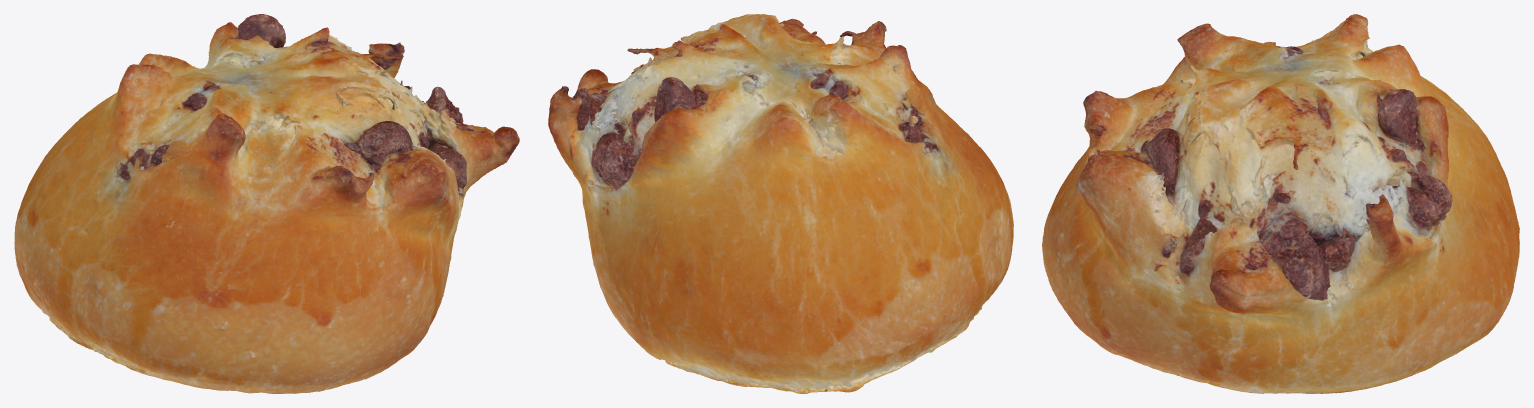
File: chocolate_chip_brioche (1).glb
The picture shows the model from 3 angles, left to right: view 1: azimuth 30°, elevation 25°; view 2: azimuth 150°, elevation 25°; view 3: azimuth 270°, elevation 25°; orthographic projection. The views are drawn at different scales.
Parts seen in each view (by area): view 1: Object_5, Object_4, Object_6, Object_7, Object_8, Object_2, Object_3; view 2: Object_6, Object_5, Object_2, Object_3, Object_4, Object_8, Object_7; view 3: Object_2, Object_4, Object_3, Object_5, Object_7, Object_8, Object_6.
Boxes of the visible parts, x1,y1,x2,y2 form: Object_5: (14, 62, 511, 392); Object_4: (211, 69, 519, 393); Object_6: (15, 53, 313, 393); Object_7: (68, 57, 519, 393); Object_8: (49, 44, 465, 378); Object_2: (180, 14, 495, 168); Object_3: (204, 16, 495, 144); Object_6: (691, 45, 1001, 393); Object_5: (589, 16, 1006, 393); Object_2: (570, 14, 856, 393); Object_3: (548, 29, 809, 375); Object_4: (576, 14, 886, 251); Object_8: (622, 48, 1013, 347); Object_7: (581, 19, 1012, 320); Object_2: (1181, 43, 1519, 393); Object_4: (1042, 67, 1443, 393); Object_3: (1218, 47, 1519, 393); Object_5: (1043, 14, 1507, 392); Object_7: (1043, 24, 1280, 387); Object_8: (1139, 32, 1445, 253); Object_6: (1150, 15, 1519, 255).
Bounding box in the file's own units: 22.92 × 13.39 × 20.88.
2 materials, 2 textured.
